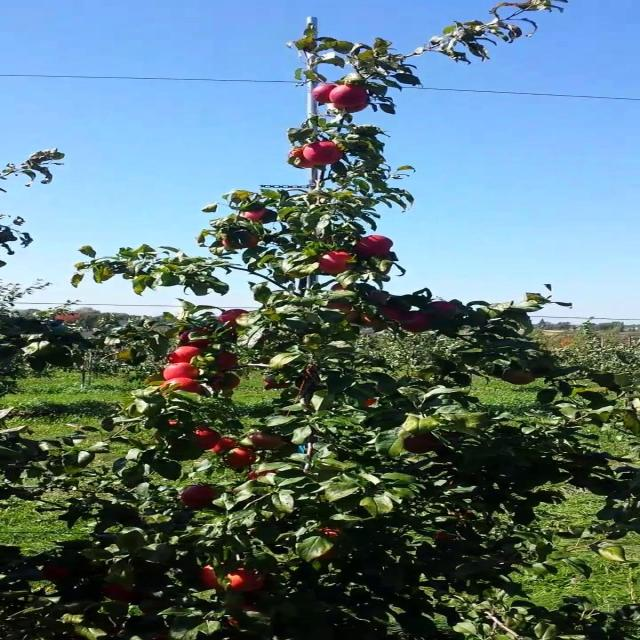apple: (227, 568, 268, 593), (305, 144, 347, 167), (355, 236, 396, 258), (319, 252, 356, 276), (333, 84, 370, 105), (184, 488, 220, 509), (404, 436, 441, 456), (177, 328, 212, 348), (234, 604, 263, 627), (227, 448, 258, 469), (220, 236, 263, 251), (106, 584, 139, 603), (404, 312, 432, 334), (241, 208, 279, 224), (326, 304, 357, 323), (504, 368, 535, 386), (42, 564, 73, 582), (170, 348, 204, 364), (163, 364, 199, 379), (291, 148, 316, 169), (164, 380, 203, 393), (198, 568, 220, 591), (212, 376, 242, 392), (312, 84, 336, 104), (255, 436, 286, 451), (220, 312, 249, 328), (198, 428, 220, 449), (220, 352, 242, 371), (212, 440, 240, 454), (326, 304, 356, 315), (340, 308, 361, 323), (433, 304, 460, 315), (383, 308, 404, 322), (362, 316, 386, 328), (340, 104, 370, 113), (319, 548, 338, 561), (319, 528, 341, 539), (248, 472, 274, 480), (269, 380, 292, 389), (433, 532, 453, 541), (262, 380, 283, 388), (333, 284, 352, 292), (362, 400, 377, 408), (156, 632, 171, 640), (170, 420, 183, 428)
